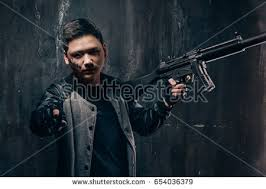rifle: (129, 32, 263, 86)
